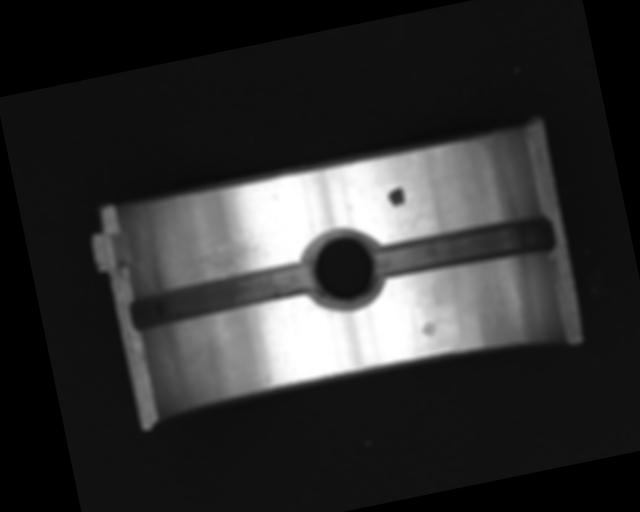blot: (386, 186, 407, 210)
bruise: (420, 319, 439, 338)
gap: (125, 259, 317, 333), (372, 210, 556, 283)
hole: (300, 225, 390, 312)
nick: (266, 306, 289, 367)
scratch: (172, 225, 263, 284)
